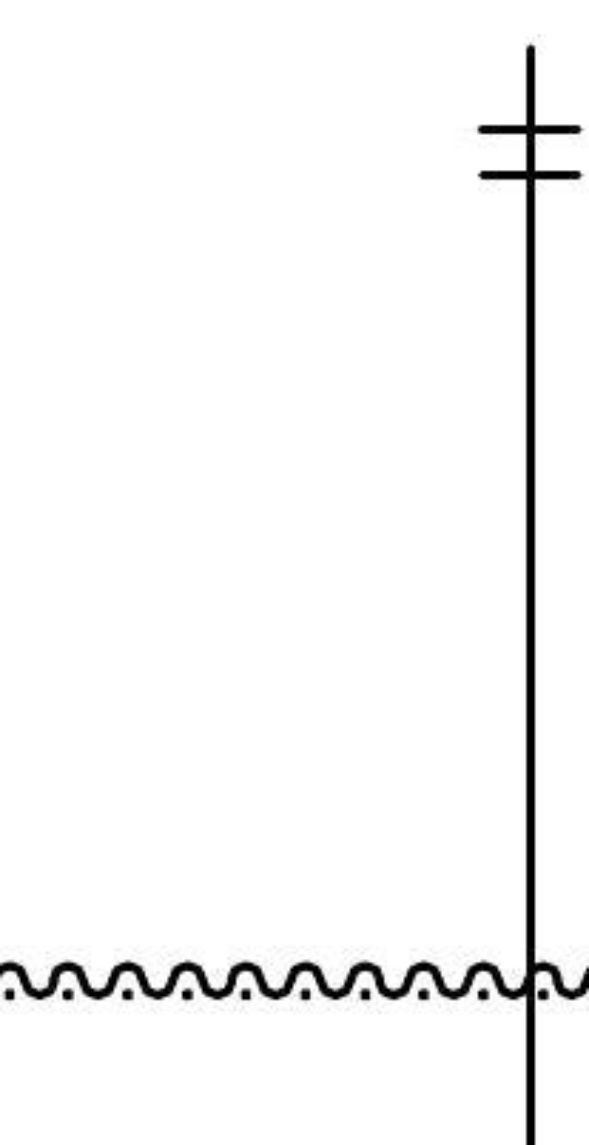115_buffer: (477, 124, 583, 180)
